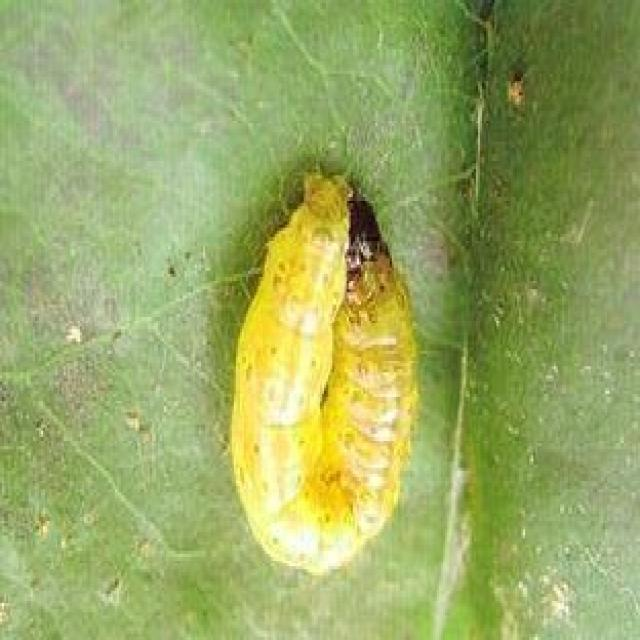peach borer: (226, 172, 421, 575)
